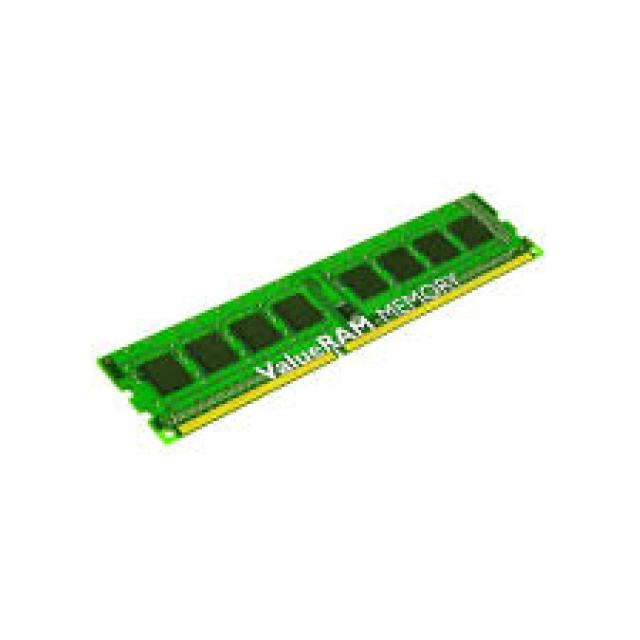Ram: (67, 59, 626, 466)
